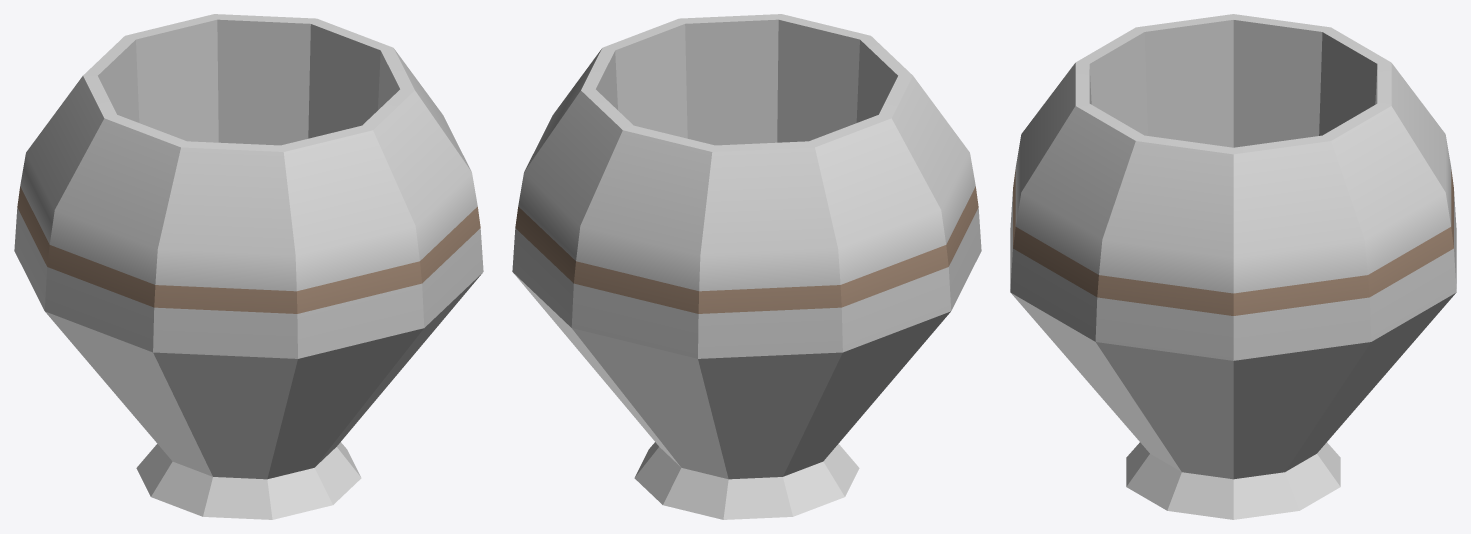
Rendered from Jarron 2.fbx.
The picture shows the model from 3 angles, left to right: view 1: azimuth 30°, elevation 25°; view 2: azimuth 150°, elevation 25°; view 3: azimuth 270°, elevation 25°; orthographic projection.
Parts seen in each view (by area): view 1: Jarron_2; view 2: Jarron_2; view 3: Jarron_2.
Part boxes in pixels (left/top/right/bottom): Jarron_2: left=14, top=14, right=483, bottom=519; Jarron_2: left=512, top=14, right=981, bottom=519; Jarron_2: left=1010, top=14, right=1456, bottom=519.
Size of the model in its own units: 1.22 by 1.11 by 1.16.
